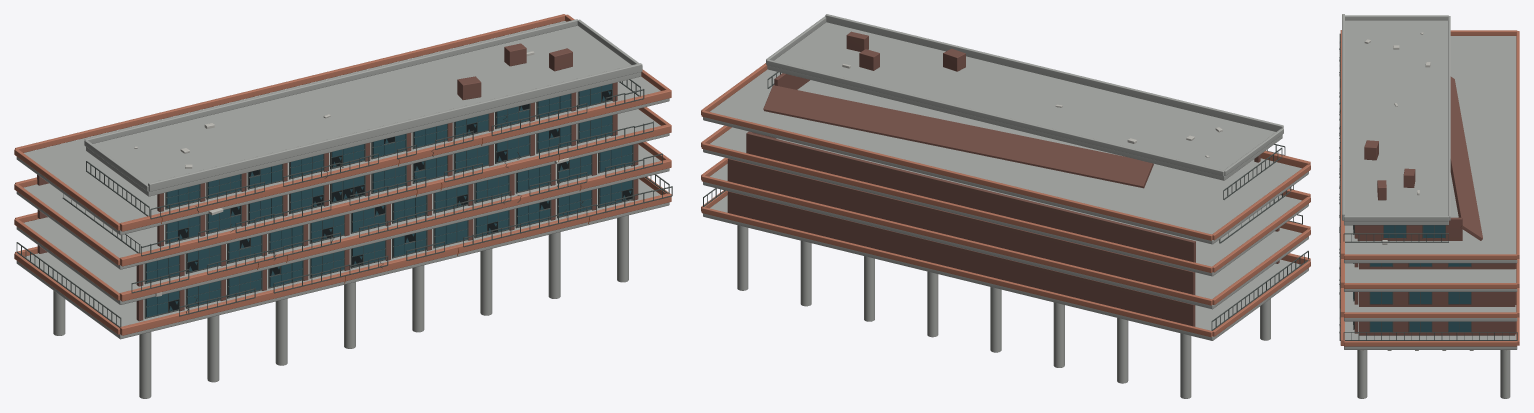
The model's file is 末日教学楼_可拆分(1).fbx.
3 views of the same model, side by side, from view 1: azimuth 30°, elevation 25°; view 2: azimuth 150°, elevation 25°; view 3: azimuth 270°, elevation 25° (orthographic). The views are drawn at different scales.
Parts seen in each view (by area): view 1: 屋顶楼板与女儿墙, 挑檐外沿_楼层01.003, 楼板_楼层01.003, 楼板_楼层01.002, 楼板_楼层01.001, 玻璃窗格_楼层02, 玻璃窗格_楼层01, 挑檐外沿_楼层01.002, 楼板_楼层01, 挑檐外沿_楼层01.001, 挑檐外沿_楼层01, 玻璃窗格_楼层03 (+26 smaller); view 2: 屋顶楼板与女儿墙, 楼板_楼层01.003, 东侧墙体_楼层01.001, 东侧墙体_楼层01.006, 东侧墙体_楼层01.004, 东侧墙体_楼层01.005, 楼板_楼层01.002, 挑檐外沿_楼层01.003, 挑檐外沿_楼层01.001, 挑檐外沿_楼层01.002, 挑檐外沿_楼层01, 楼板_楼层01.001 (+12 smaller); view 3: 屋顶楼板与女儿墙, 楼板_楼层01.003, 楼板_楼层01.002, 挑檐外沿_楼层01.003, 东侧墙体_楼层01.006, 楼板_楼层01.001, 楼板_楼层01, 东侧墙体_楼层01, 东侧墙体_楼层01.003, 挑檐外沿_楼层01.001, 挑檐外沿_楼层01.002, 挑檐外沿_楼层01 (+11 smaller).
Part boxes in pixels (bbox=[...]): 屋顶楼板与女儿墙: bbox=[84, 19, 642, 196]; 挑檐外沿_楼层01.003: bbox=[14, 14, 671, 231]; 楼板_楼层01.003: bbox=[16, 21, 669, 235]; 楼板_楼层01.002: bbox=[16, 109, 669, 269]; 楼板_楼层01.001: bbox=[16, 144, 669, 304]; 玻璃窗格_楼层02: bbox=[146, 145, 632, 282]; 玻璃窗格_楼层01: bbox=[146, 180, 632, 316]; 挑檐外沿_楼层01.002: bbox=[14, 107, 671, 266]; 楼板_楼层01: bbox=[16, 179, 669, 339]; 挑檐外沿_楼层01.001: bbox=[14, 141, 671, 301]; 挑檐外沿_楼层01: bbox=[14, 176, 671, 335]; 玻璃窗格_楼层03: bbox=[167, 115, 611, 242]; 屋顶楼板与女儿墙: bbox=[766, 14, 1283, 180]; 楼板_楼层01.003: bbox=[703, 69, 1308, 244]; 东侧墙体_楼层01.001: bbox=[728, 158, 1195, 294]; 东侧墙体_楼层01.006: bbox=[763, 85, 1153, 188]; 东侧墙体_楼层01.004: bbox=[728, 191, 1195, 326]; 东侧墙体_楼层01.005: bbox=[746, 132, 1195, 262]; 楼板_楼层01.002: bbox=[703, 127, 1308, 276]; 挑檐外沿_楼层01.003: bbox=[701, 63, 1310, 240]; 挑檐外沿_楼层01.001: bbox=[701, 157, 1310, 305]; 挑檐外沿_楼层01.002: bbox=[701, 125, 1310, 272]; 挑檐外沿_楼层01: bbox=[701, 190, 1310, 337]; 楼板_楼层01.001: bbox=[703, 163, 1308, 309]; 屋顶楼板与女儿墙: bbox=[1342, 14, 1450, 225]; 楼板_楼层01.003: bbox=[1344, 36, 1517, 263]; 楼板_楼层01.002: bbox=[1344, 263, 1517, 291]; 挑檐外沿_楼层01.003: bbox=[1340, 30, 1519, 259]; 东侧墙体_楼层01.006: bbox=[1450, 76, 1482, 240]; 楼板_楼层01.001: bbox=[1344, 292, 1517, 321]; 楼板_楼层01: bbox=[1344, 321, 1517, 349]; 东侧墙体_楼层01: bbox=[1359, 321, 1515, 335]; 东侧墙体_楼层01.003: bbox=[1359, 292, 1515, 306]; 挑檐外沿_楼层01.001: bbox=[1340, 288, 1519, 317]; 挑檐外沿_楼层01.002: bbox=[1340, 259, 1519, 288]; 挑檐外沿_楼层01: bbox=[1340, 317, 1519, 346].
Size of the model in its own units: 5842 by 2332 by 1977.
